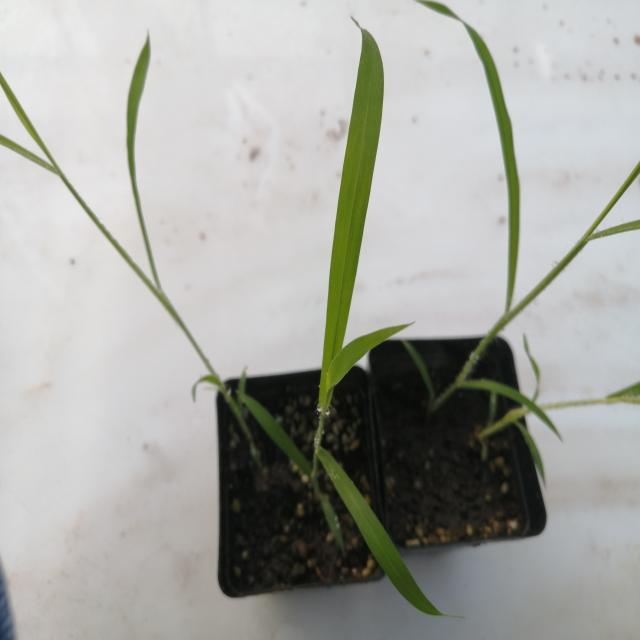crabgrass: (310, 9, 462, 614)
